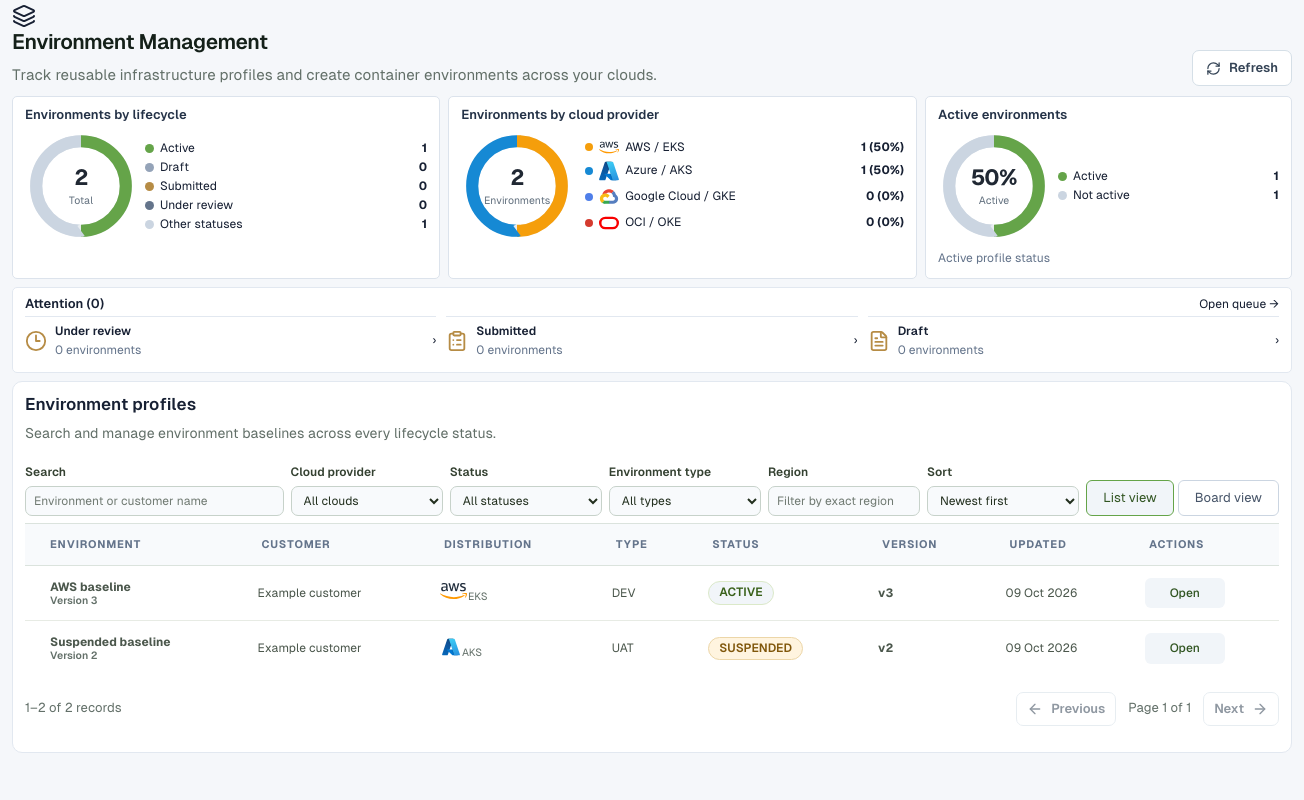
Scenario: Environment UI preserves existing interactions › renders the reference portfolio sections and routes attention to existing status filters
Expected: the heading "Environments by lifecycle" is shown, top-left (25, 107), bottom-right (187, 122)
Expected: the heading "Environments by cloud provider" is shown, top-left (461, 107), bottom-right (659, 122)
Step 1. Click the button "Under review 0 environments ›" → (93, 331), box top-left (25, 316), bottom-right (436, 364)
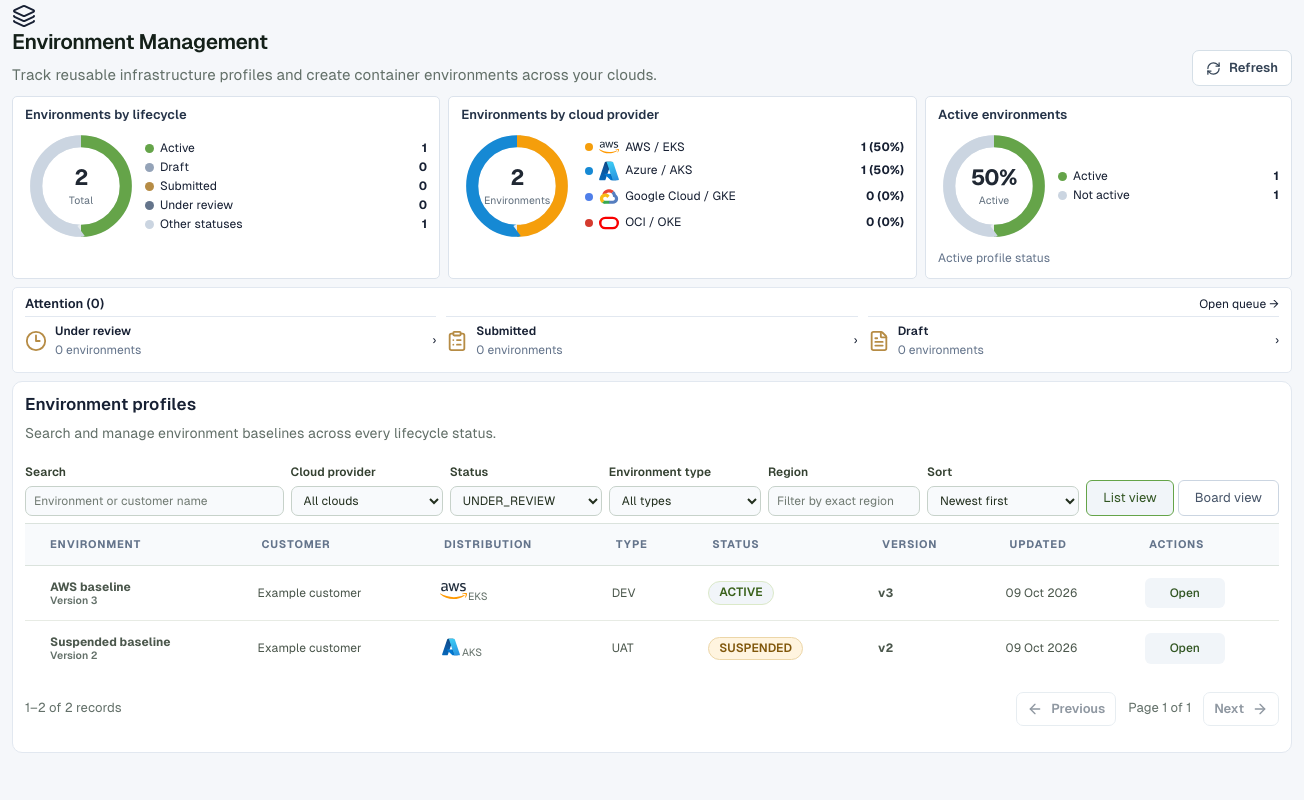
Result: the dropdown labelled "Status" shows "UNDER_REVIEW" at top-left (450, 486), bottom-right (602, 516)
